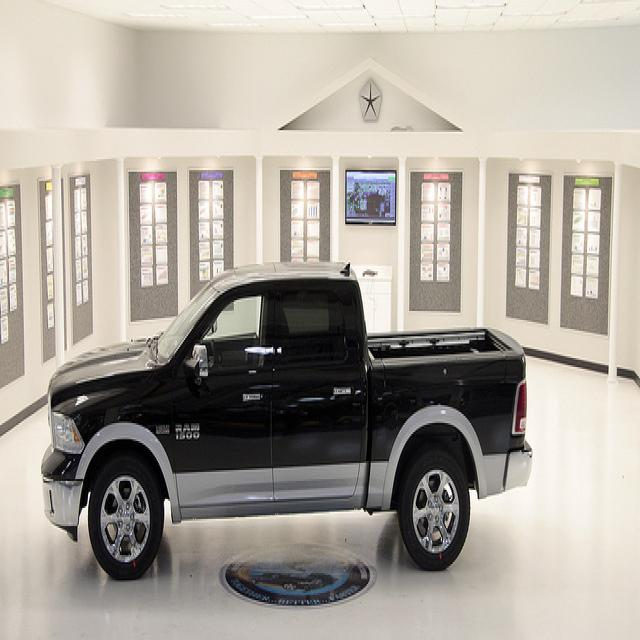Vehicle: (38, 261, 533, 587)
